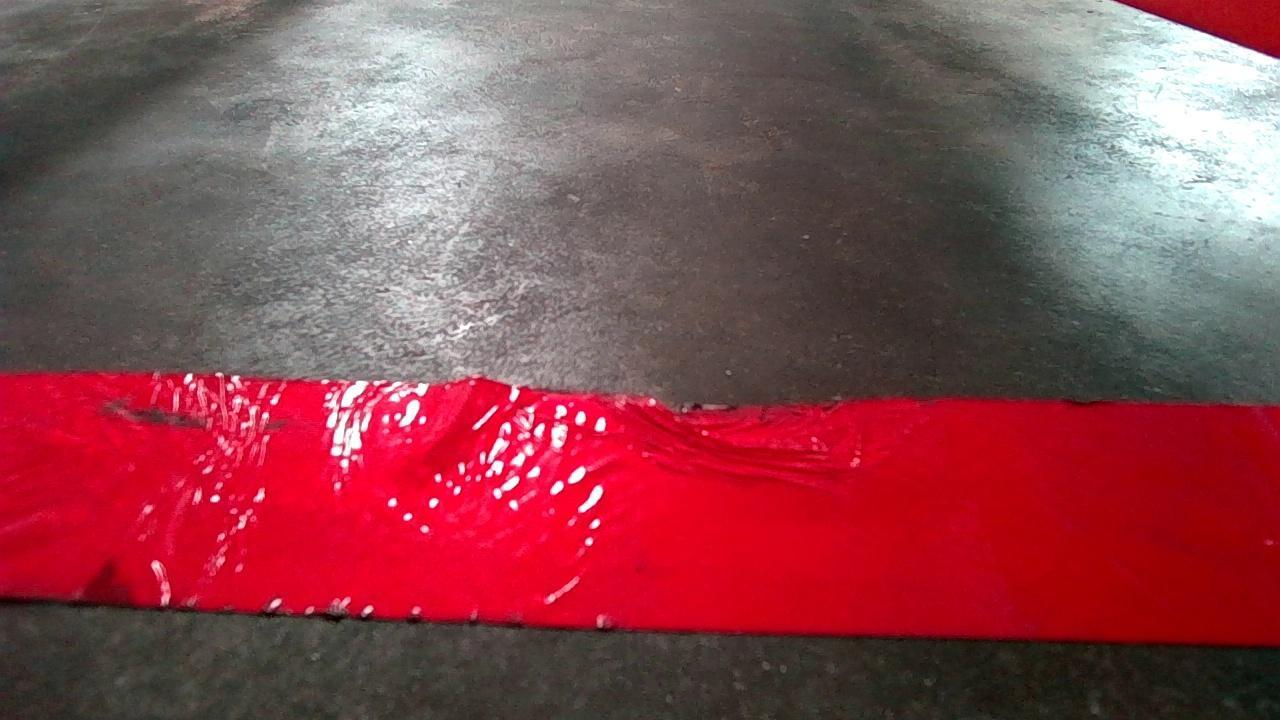h_rack: (25, 378, 1268, 660)
